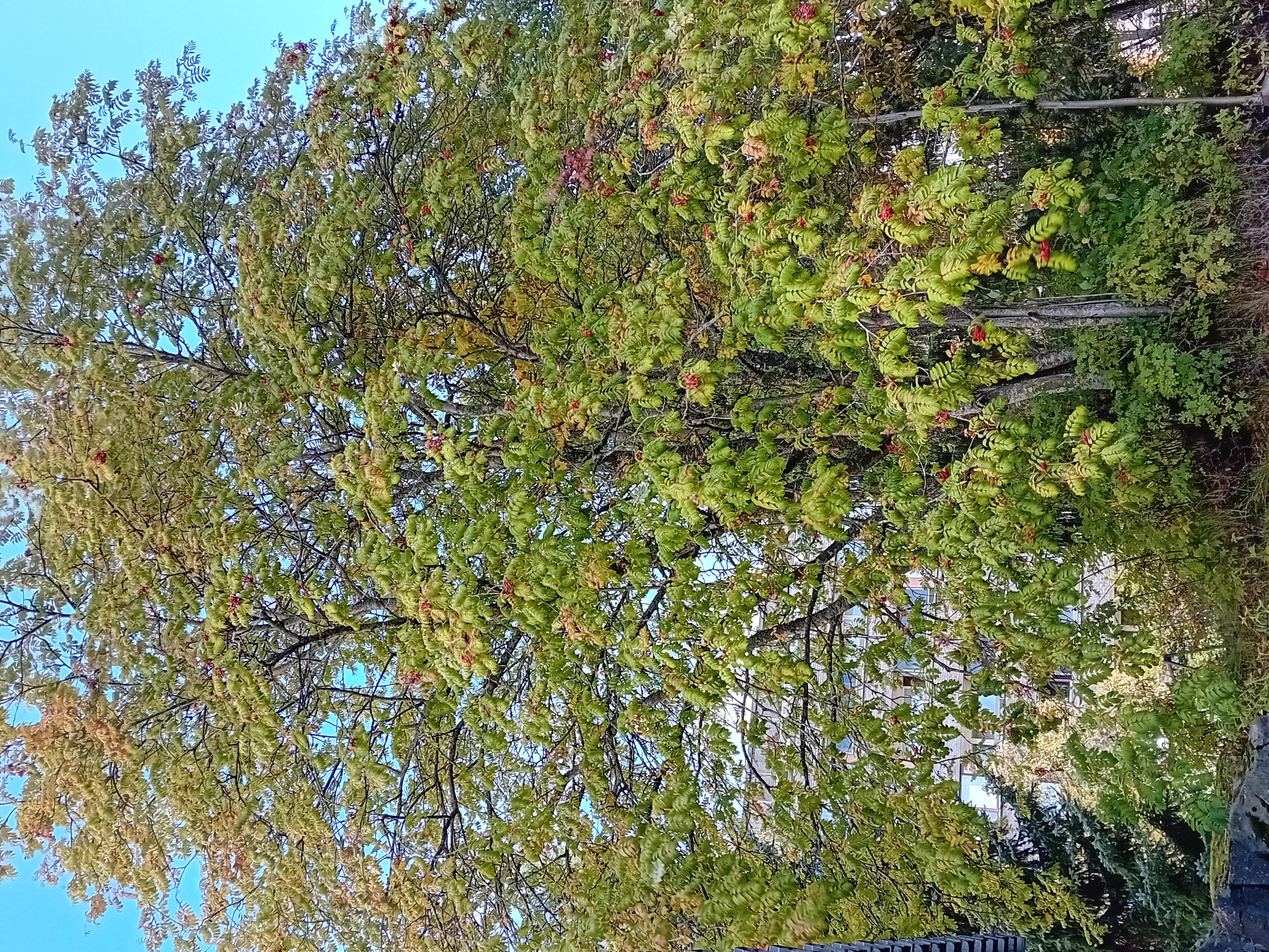Rowan: (221, 0, 1254, 884)
